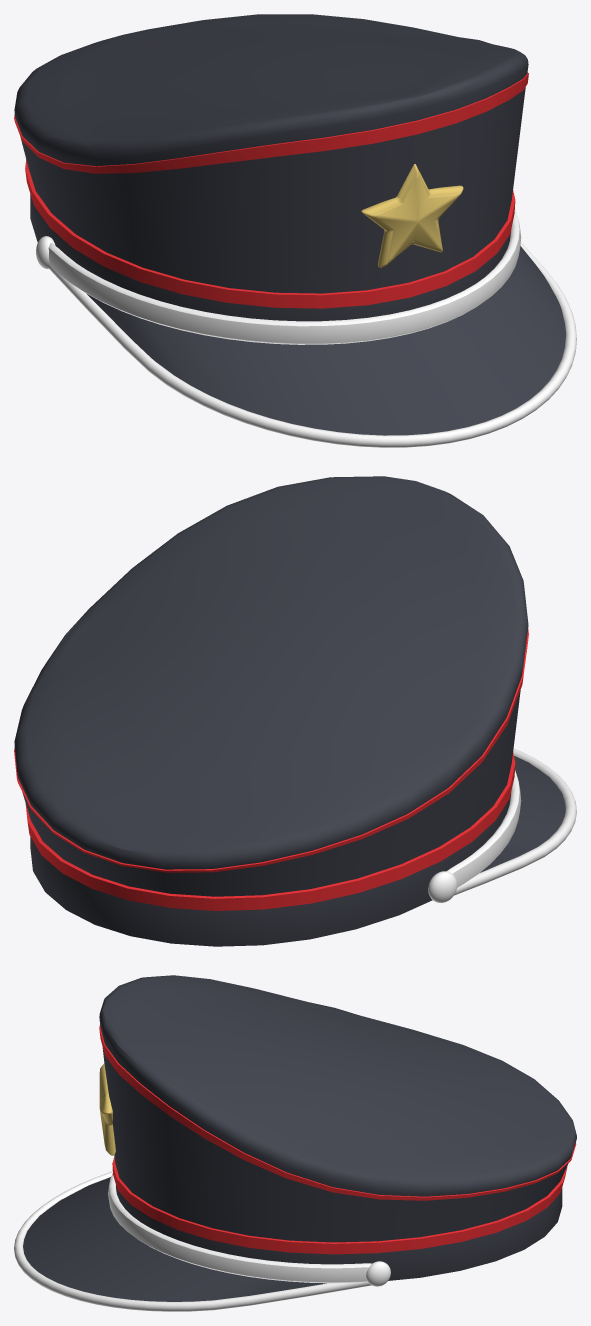
The model's file is MilitaryHat.fbx.
3 views of the same model, one above another, from view 1: azimuth 30°, elevation 25°; view 2: azimuth 150°, elevation 25°; view 3: azimuth 270°, elevation 25° (orthographic). The views are drawn at different scales.
Parts seen in each view (by area): view 1: MilitaryHat; view 2: MilitaryHat; view 3: MilitaryHat.
Boxes of the visible parts, <box> form: MilitaryHat: <box>14,14,576,447</box>; MilitaryHat: <box>14,476,576,946</box>; MilitaryHat: <box>14,975,576,1311</box>.
Bounding box in the file's own units: 454 × 313 × 656.
